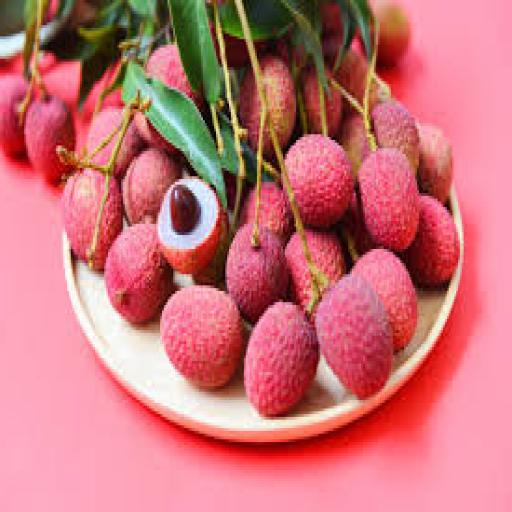lychee: (314, 275, 391, 400), (160, 286, 242, 388), (243, 303, 317, 416), (104, 224, 172, 324), (351, 250, 416, 349), (284, 135, 352, 229), (156, 177, 220, 274), (225, 224, 287, 324), (357, 149, 417, 251), (61, 171, 121, 268), (404, 196, 458, 285), (121, 149, 181, 223), (24, 96, 73, 181), (145, 45, 201, 111), (258, 56, 295, 148), (370, 101, 417, 173), (191, 210, 228, 285), (417, 126, 451, 204), (374, 0, 408, 67), (338, 191, 373, 254), (258, 182, 291, 246), (284, 233, 311, 310), (0, 76, 26, 153), (336, 115, 367, 176), (333, 48, 367, 103), (85, 107, 121, 153), (301, 68, 321, 134), (320, 0, 341, 36)
